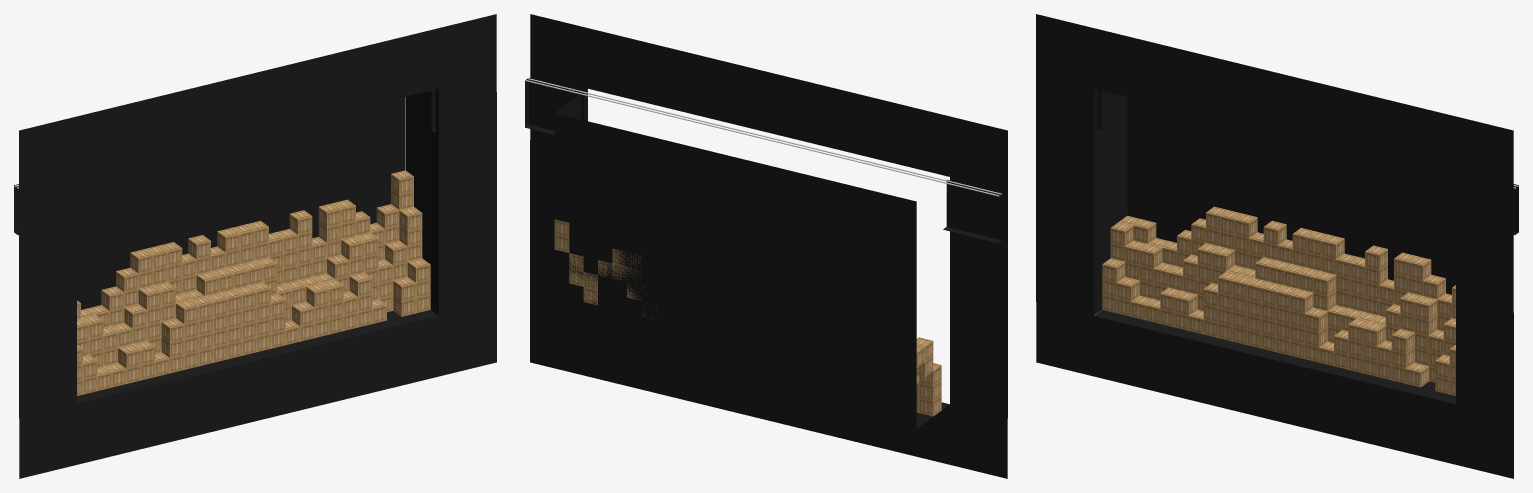
The picture shows the model from 3 angles, left to right: view 1: azimuth 30°, elevation 25°; view 2: azimuth 150°, elevation 25°; view 3: azimuth 330°, elevation 25°; orthographic projection.
Parts seen in each view (by area): view 1: Box758, Box759; view 2: Box758, Box759, Cylinder001, Cylinder002; view 3: Box758, Box759.
Boxes of the visible parts, box(x1,y1,x2,y2) form: Box758: box(19, 14, 496, 478); Box759: box(14, 88, 438, 404); Box758: box(530, 14, 1007, 478); Box759: box(525, 78, 1002, 427); Cylinder001: box(528, 78, 1001, 194); Cylinder002: box(525, 80, 999, 196); Box758: box(1036, 14, 1513, 478); Box759: box(1094, 89, 1518, 403).
Bounding box in the file's own units: 21.49 × 14.97 × 2.6.
Materials: 2 (1 with a texture image).
